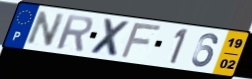1: (169, 27, 189, 65)
6: (191, 32, 219, 69)
F: (118, 22, 164, 60)
N: (24, 10, 68, 48)
R: (55, 13, 95, 53)
X: (88, 17, 133, 59)
